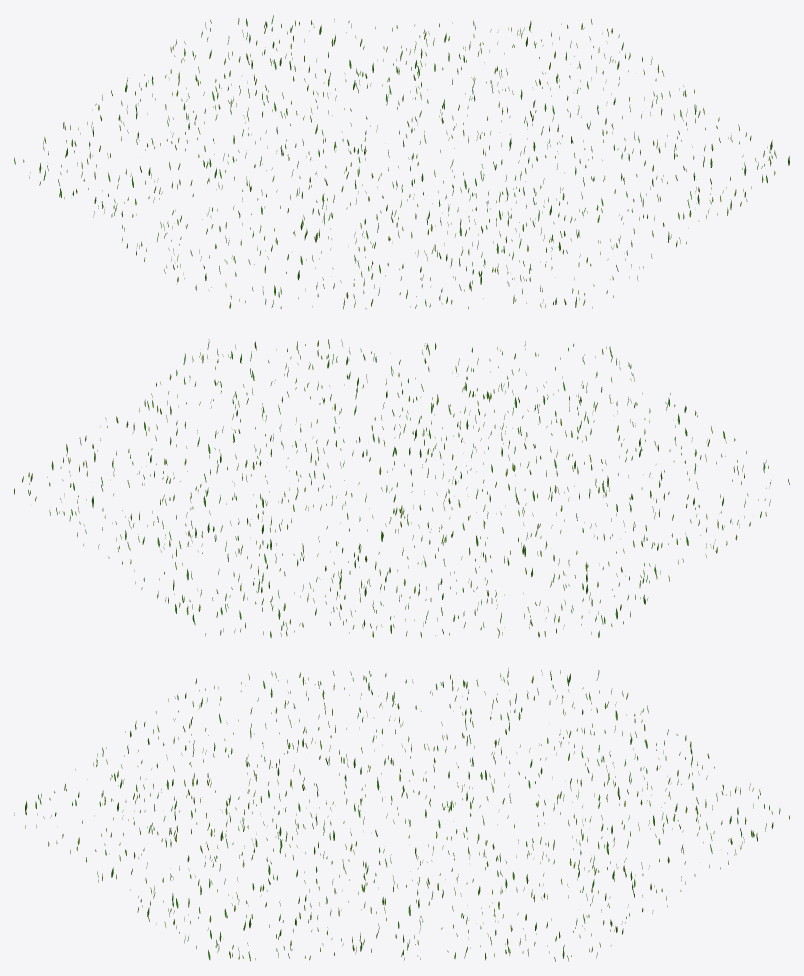
File: grass1.fbx
3 views of the same model, one above another, from view 1: azimuth 30°, elevation 25°; view 2: azimuth 150°, elevation 25°; view 3: azimuth 270°, elevation 25° (orthographic).
Parts seen in each view (by area): view 1: Circle.002; view 2: Circle.002; view 3: Circle.002.
Part boxes in pixels (x1,y1,x2,y2): Circle.002: (14,15,789,309); Circle.002: (14,339,789,637); Circle.002: (14,667,789,961).
Size of the model in its own units: 3961 by 73.56 by 4528.
